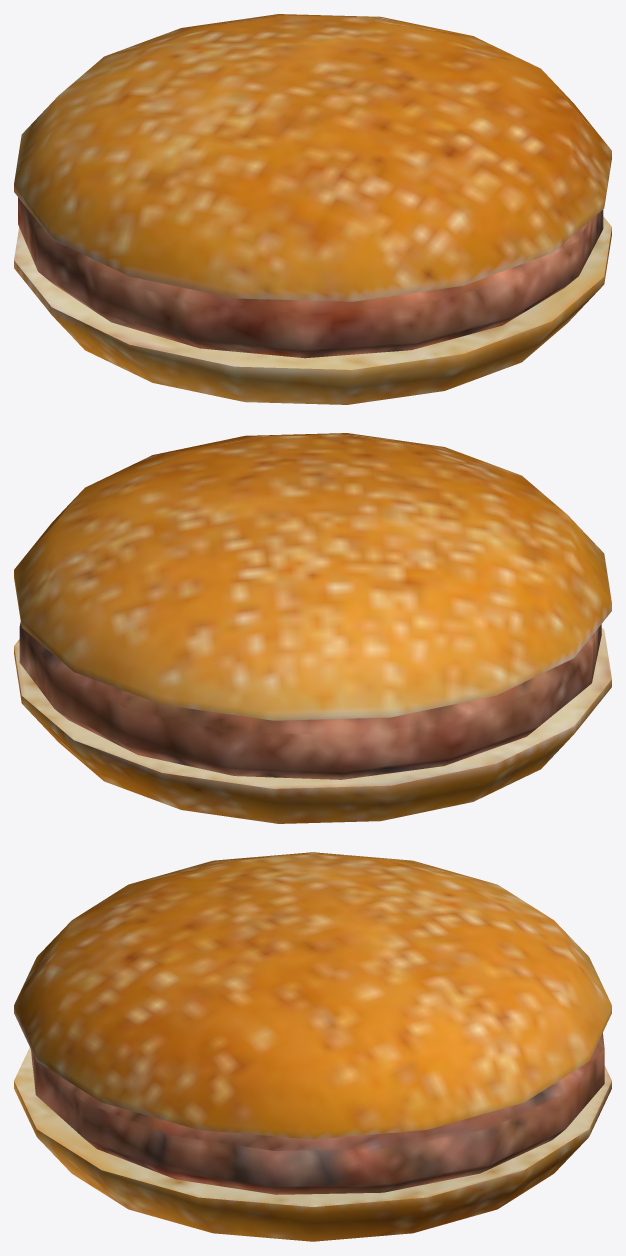
File: burger.fbx
3 views of the same model, one above another, from view 1: azimuth 30°, elevation 25°; view 2: azimuth 150°, elevation 25°; view 3: azimuth 270°, elevation 25° (orthographic).
Visible parts, largest first — view 1: burger; view 2: burger; view 3: burger.
Part boxes in pixels (left/top/right/bottom): burger: left=14, top=14, right=611, bottom=404; burger: left=14, top=433, right=611, bottom=823; burger: left=14, top=852, right=611, bottom=1241.
Bounding box in the file's own units: 11.98 × 5.91 × 11.98.
1 material, 1 textured.
